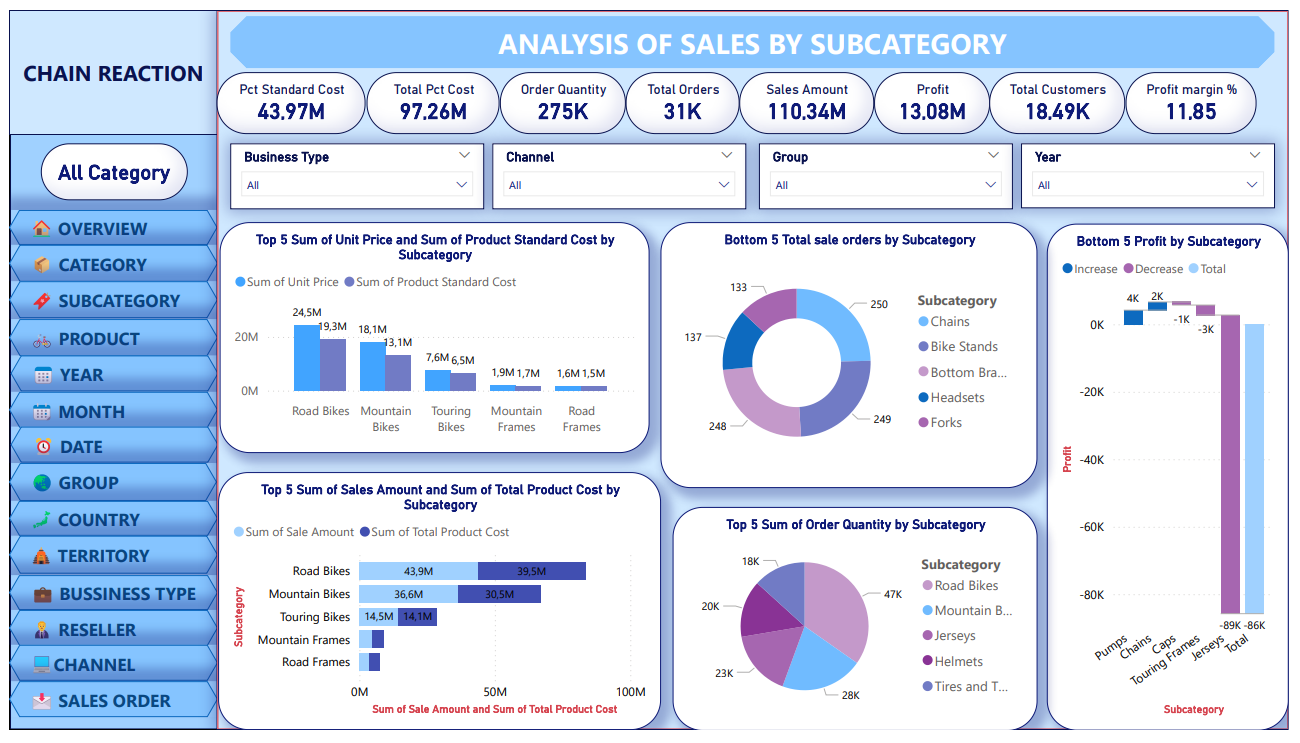

What the dashboard file says about the page in this screenshot:
{"tool":"powerbi","page":{"name":"SubCategory","canvas":[1280,720],"ordinal":4},"visuals":[{"type":"shape","box":[0,0,209.9,720.4],"z":0},{"type":"shape","box":[0,199.4,208.6,35],"z":1000},{"type":"shape","box":[0,234.3,209,37],"z":2000},{"type":"shape","box":[0,271.3,209,37],"z":3000},{"type":"shape","box":[0,308.3,209,37],"z":4000},{"type":"shape","box":[1,345.3,208,36],"z":5000},{"type":"shape","box":[0,381.3,209,36],"z":6000},{"type":"shape","box":[1,417.3,208,36],"z":7000},{"type":"shape","box":[0,453.3,208,38],"z":8000},{"type":"shape","box":[0,491.3,209,35],"z":9000},{"type":"shape","box":[0,526.3,209,38],"z":10000},{"type":"shape","box":[0,564.3,209,35],"z":11000},{"type":"shape","box":[0,599.3,209,36],"z":12000},{"type":"shape","box":[0,635.3,209,36],"z":13000},{"type":"shape","box":[0,671.3,209,36],"z":14000},{"type":"shape","title":"dbdbdjb","box":[235.7,0,1044.3,52.1],"z":15000},{"type":"shape","box":[0.4,0,209.1,124.7],"z":16000},{"type":"shape","box":[207.6,0,1072.4,720.2],"z":17000},{"type":"card","title":"Order Quantity","fields":{"Values":["Sum(Sales.Order Quantity)"]},"box":[490.4,62.4,126,62.4],"z":18000},{"type":"card","title":"Pct Standard Cost","fields":{"Values":["Sum(Sales.Product Standard Cost)"]},"box":[207.9,62.4,149.2,62.4],"z":19000},{"type":"card","title":"Sales Amount","fields":{"Values":["Sum(Sales.Sale Amount)"]},"box":[730,62.4,134.5,62.4],"z":20000},{"type":"card","title":"Profit","fields":{"Values":["Sales.Profit"]},"box":[864.5,62.4,116.2,62.4],"z":21000},{"type":"card","title":"Total Pct Cost","fields":{"Values":["Sum(Sales.Total Product Cost)"]},"box":[357.1,62.4,133.3,62.4],"z":22000},{"type":"card","title":"Total Orders","fields":{"Values":["Sales.Total sale orders"]},"box":[616.3,62.4,113.7,62.4],"z":23000},{"type":"card","title":"Total Customers","fields":{"Values":["Count(Customer.Customer ID)"]},"box":[980.7,62.4,135.7,62.4],"z":24000},{"type":"card","title":"Profit margin %","fields":{"Values":["Sales.Profit margin"]},"box":[1116.4,62.4,130.8,62.4],"z":25000},{"type":"shape","title":"dbdbdjb","box":[221.1,5.6,1044.4,52.2],"z":26000},{"type":"slicer","fields":{"Values":["Business Type.Business Type"]},"box":[221.3,133.3,254,66],"z":27000},{"type":"slicer","fields":{"Values":["Channel.Channel"]},"box":[483.6,133.6,254.3,65.7],"z":28000},{"type":"slicer","fields":{"Values":["Group.Group"]},"box":[749.3,133.6,254.3,65.7],"z":29000},{"type":"slicer","fields":{"Values":["Date.Year"]},"box":[1011.8,133.6,253.6,65.5],"z":30000},{"type":"waterfallChart","title":"Bottom 5 Profit by Subcategory","fields":{"Category":["Subcategory.Subcategory"],"Y":["Sales.Profit"]},"box":[1037.8,213.3,242.2,506.7],"z":31000},{"type":"clusteredColumnChart","title":"Top 5 Sum of Unit Price and Sum of Product Standard Cost by Subcategory","fields":{"Category":["Subcategory.Subcategory"],"Y":["Sum(Sales.Unit Price)","Sum(Sales.Product Standard Cost)"]},"box":[209.9,212.7,429.5,230.5],"z":32000},{"type":"barChart","title":"Top 5 Sum of Sales Amount and Sum of Total Product Cost by Subcategory","fields":{"Category":["Subcategory.Subcategory"],"Y":["Sum(Sales.Sale Amount)","Sum(Sales.Total Product Cost)"]},"box":[208.6,462.4,443.2,258],"z":33000},{"type":"pieChart","title":"Top 5 Sum of Order Quantity by Subcategory","fields":{"Y":["Sum(Sales.Order Quantity)"],"Category":["Subcategory.Subcategory"]},"box":[664.2,496.7,365,223.7],"z":34000},{"type":"donutChart","title":"Bottom 5 Total sale orders by Subcategory","fields":{"Category":["Subcategory.Subcategory"],"Y":["Sales.Total sale orders"]},"box":[651.8,212.7,377.4,266.2],"z":35000},{"type":"card","fields":{"Values":["Category.SCategory"]},"box":[31.8,133.3,146.7,57.5],"z":36000}]}

Visuals, with their boxes in screenshot pixels (x1, y1, x2, y2), scaled from the page's 1280x720 canvas onto the 1300x743 screenshot:
shape: <box>0,0,213,742</box>
shape: <box>0,206,212,242</box>
shape: <box>0,242,212,280</box>
shape: <box>0,280,212,318</box>
shape: <box>0,318,212,356</box>
shape: <box>1,356,212,393</box>
shape: <box>0,393,212,431</box>
shape: <box>1,431,212,468</box>
shape: <box>0,468,211,507</box>
shape: <box>0,507,212,543</box>
shape: <box>0,543,212,582</box>
shape: <box>0,582,212,618</box>
shape: <box>0,618,212,656</box>
shape: <box>0,656,212,693</box>
shape: <box>0,693,212,730</box>
"dbdbdjb" shape: <box>239,0,1299,54</box>
shape: <box>0,0,213,129</box>
shape: <box>211,0,1299,742</box>
"Order Quantity" card: <box>498,64,626,129</box>
"Pct Standard Cost" card: <box>211,64,363,129</box>
"Sales Amount" card: <box>741,64,878,129</box>
"Profit" card: <box>878,64,996,129</box>
"Total Pct Cost" card: <box>363,64,498,129</box>
"Total Orders" card: <box>626,64,741,129</box>
"Total Customers" card: <box>996,64,1134,129</box>
"Profit margin %" card: <box>1134,64,1267,129</box>
"dbdbdjb" shape: <box>225,6,1285,60</box>
slicer - Business Type.Business Type: <box>225,138,483,206</box>
slicer - Channel.Channel: <box>491,138,749,206</box>
slicer - Group.Group: <box>761,138,1019,206</box>
slicer - Date.Year: <box>1028,138,1285,205</box>
"Bottom 5 Profit by Subcategory" waterfallChart: <box>1054,220,1299,742</box>
"Top 5 Sum of Unit Price and Sum of Product Standard Cost by Subcategory" clusteredColumnChart: <box>213,219,649,457</box>
"Top 5 Sum of Sales Amount and Sum of Total Product Cost by Subcategory" barChart: <box>212,477,662,742</box>
"Top 5 Sum of Order Quantity by Subcategory" pieChart: <box>675,513,1045,742</box>
"Bottom 5 Total sale orders by Subcategory" donutChart: <box>662,219,1045,494</box>
card - Category.SCategory: <box>32,138,181,197</box>
